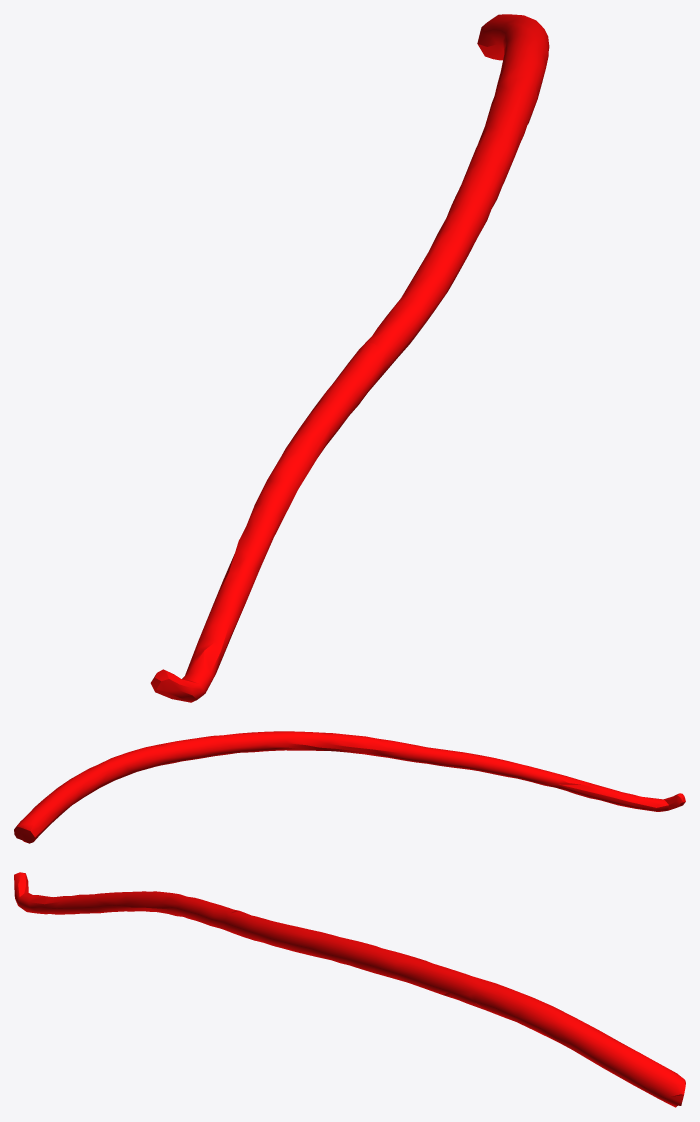
File: Stent_artery2.fbx
The picture shows the model from 3 angles, top to bottom: view 1: azimuth 30°, elevation 25°; view 2: azimuth 150°, elevation 25°; view 3: azimuth 270°, elevation 25°; orthographic projection. The views are drawn at different scales.
Visible parts, largest first — view 1: Stent_Artery2; view 2: Stent_Artery2; view 3: Stent_Artery2.
Boxes of the visible parts, x1=… form: Stent_Artery2: x1=150, y1=14, x2=549, y2=702; Stent_Artery2: x1=14, y1=731, x2=685, y2=843; Stent_Artery2: x1=14, y1=872, x2=685, y2=1107.
Size of the model in its own units: 35.28 by 8.66 by 35.58.
